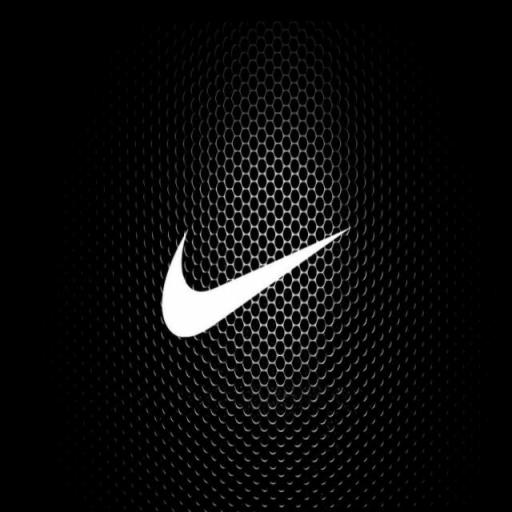Nike: (158, 226, 351, 339)
